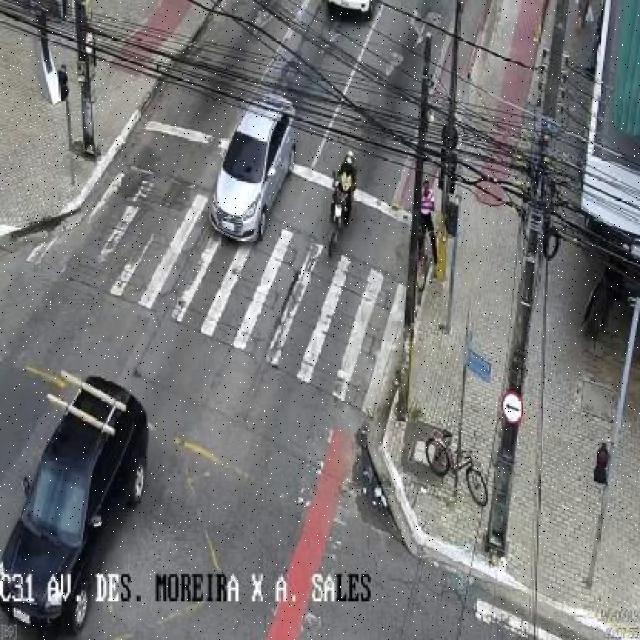Car: (0, 365, 154, 640), (205, 82, 298, 245)
Cycle: (326, 142, 359, 250)
